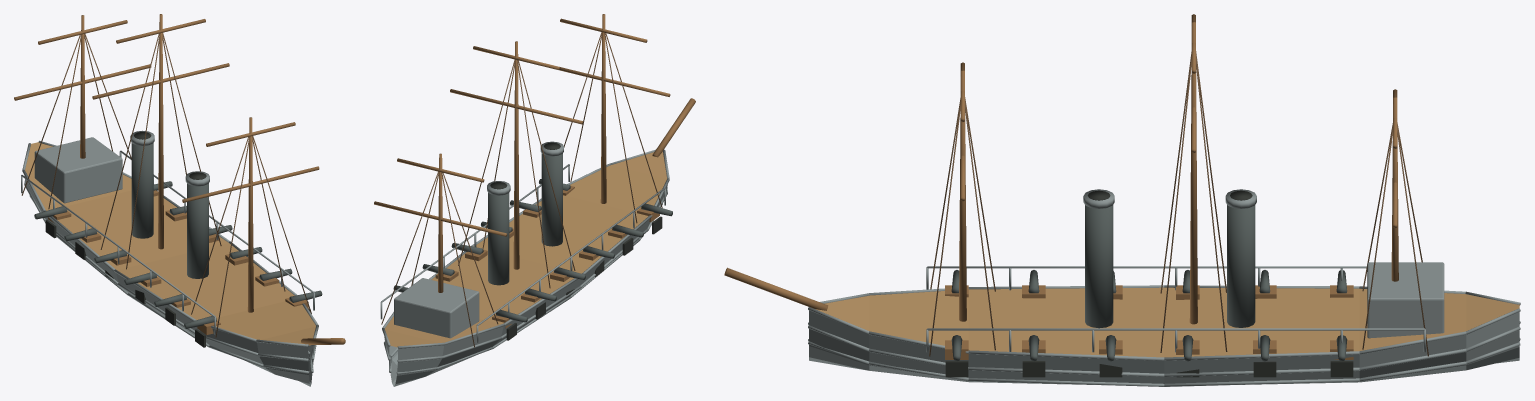
Rendered from ironclad-warship.glb.
3 views of the same model, side by side, from view 1: azimuth 30°, elevation 25°; view 2: azimuth 150°, elevation 25°; view 3: azimuth 270°, elevation 25° (orthographic). The views are drawn at different scales.
Parts seen in each view (by area): view 1: unit_root_geometry; view 2: unit_root_geometry; view 3: unit_root_geometry.
Part boxes in pixels (<box>): unit_root_geometry: <box>14,14,345,386</box>; unit_root_geometry: <box>374,14,695,386</box>; unit_root_geometry: <box>724,14,1520,386</box>.
Bounding box in the file's own units: 1.7 × 3.3 × 6.72.
